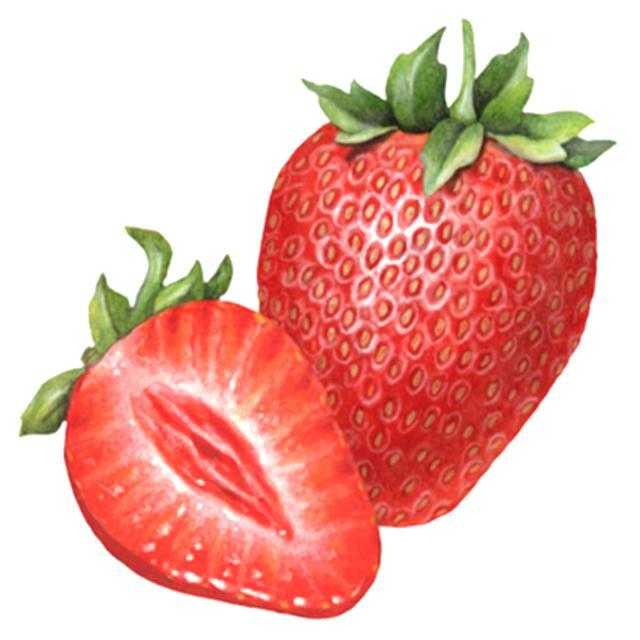strawberry: (258, 21, 612, 526), (21, 228, 380, 618)
